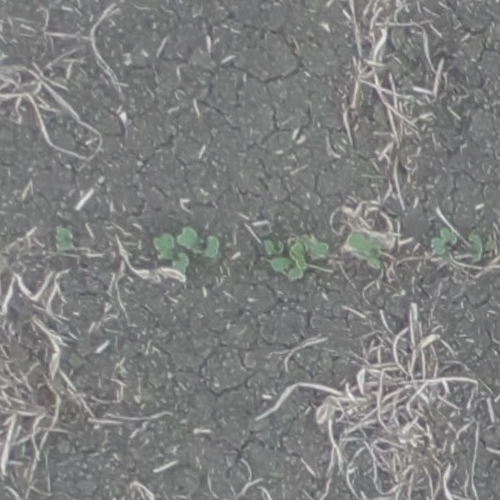plant: (151, 226, 218, 274), (346, 233, 382, 266), (292, 239, 326, 268), (467, 234, 495, 265), (265, 238, 288, 273), (429, 228, 458, 255)
